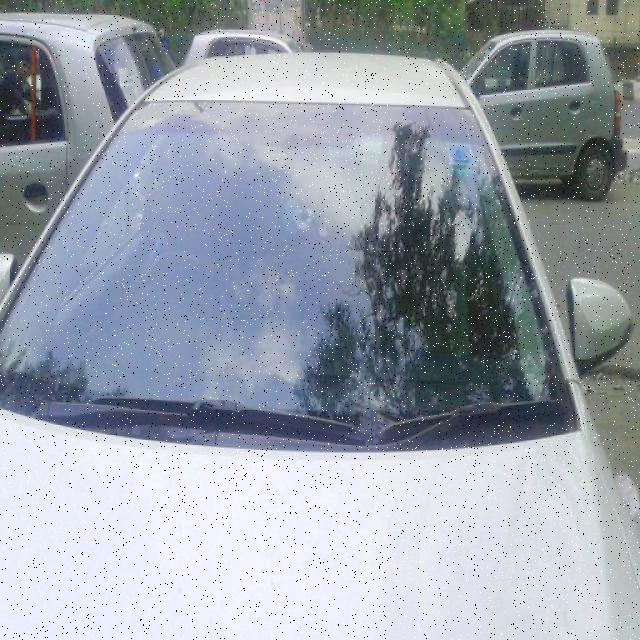car damage: (288, 196, 334, 257)
